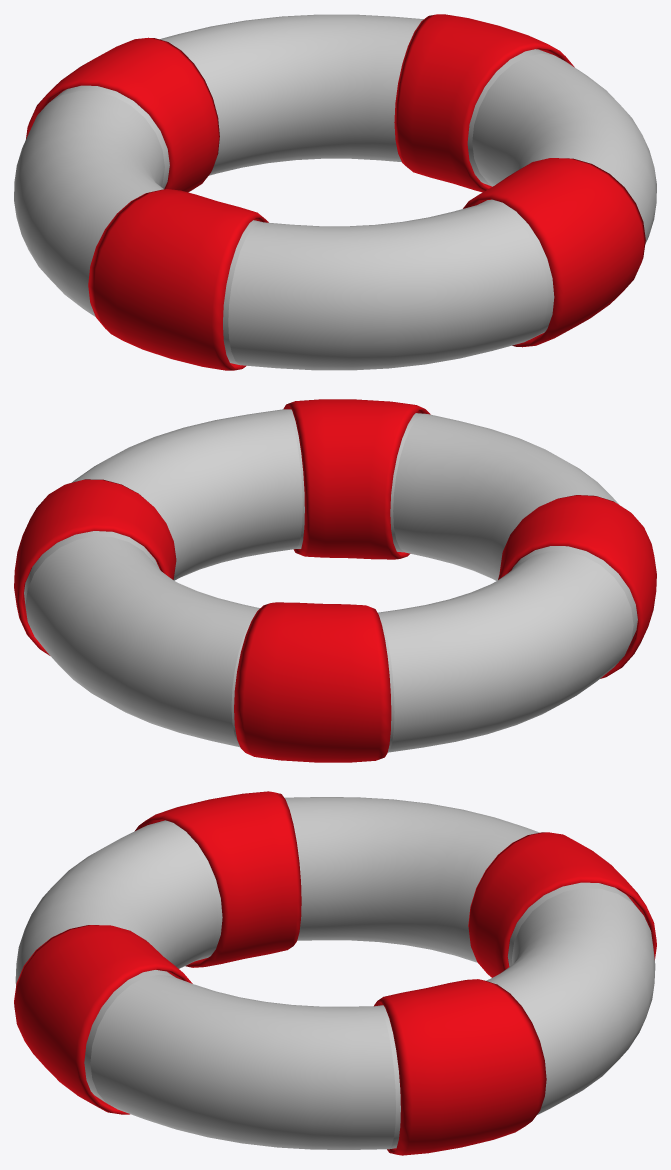
The model's file is lifebuoy.glb.
The picture shows the model from 3 angles, top to bottom: view 1: azimuth 30°, elevation 25°; view 2: azimuth 150°, elevation 25°; view 3: azimuth 270°, elevation 25°; orthographic projection. The views are drawn at different scales.
Parts seen in each view (by area): view 1: KoloRatunkowe; view 2: KoloRatunkowe; view 3: KoloRatunkowe.
Part boxes in pixels (x1,y1,x2,y2): KoloRatunkowe: (14, 14, 656, 370); KoloRatunkowe: (14, 399, 656, 762); KoloRatunkowe: (14, 791, 656, 1155).
Bounding box in the file's own units: 0.7668 × 0.196 × 0.7668.
